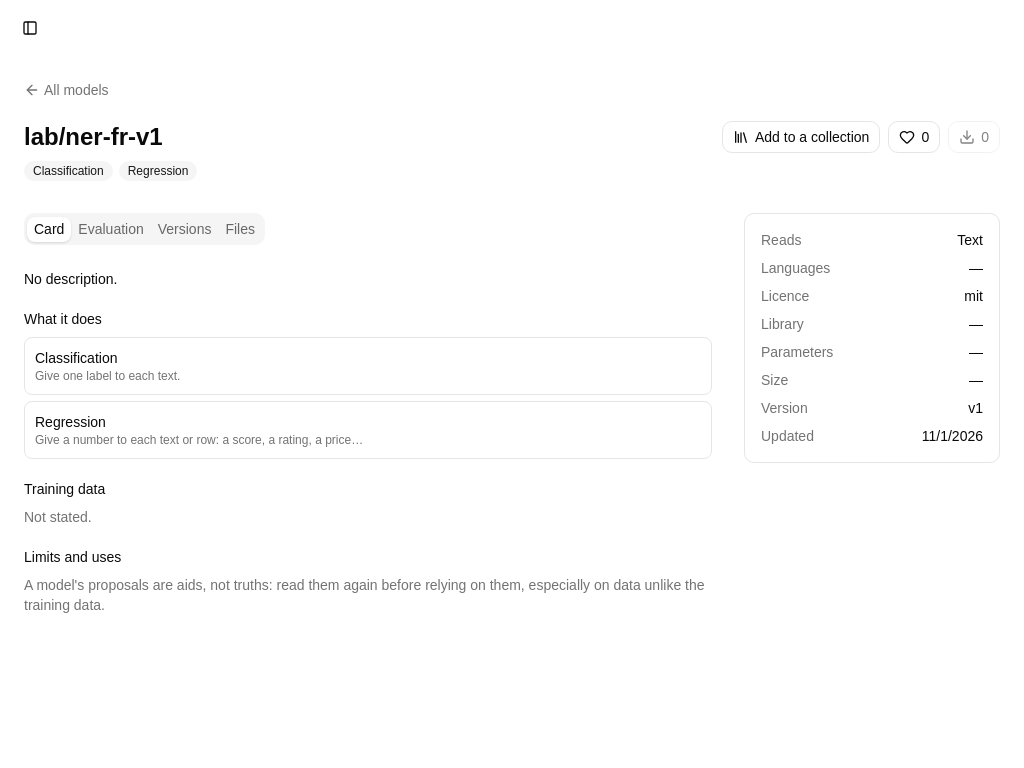
it: lists the evaluations by task, with the metrics the platform defines and only the ones that were chosen
The width and height of the screenshot is (1024, 768).
Click the tab "Evaluation" at (111, 229), box [71,216,151,242]
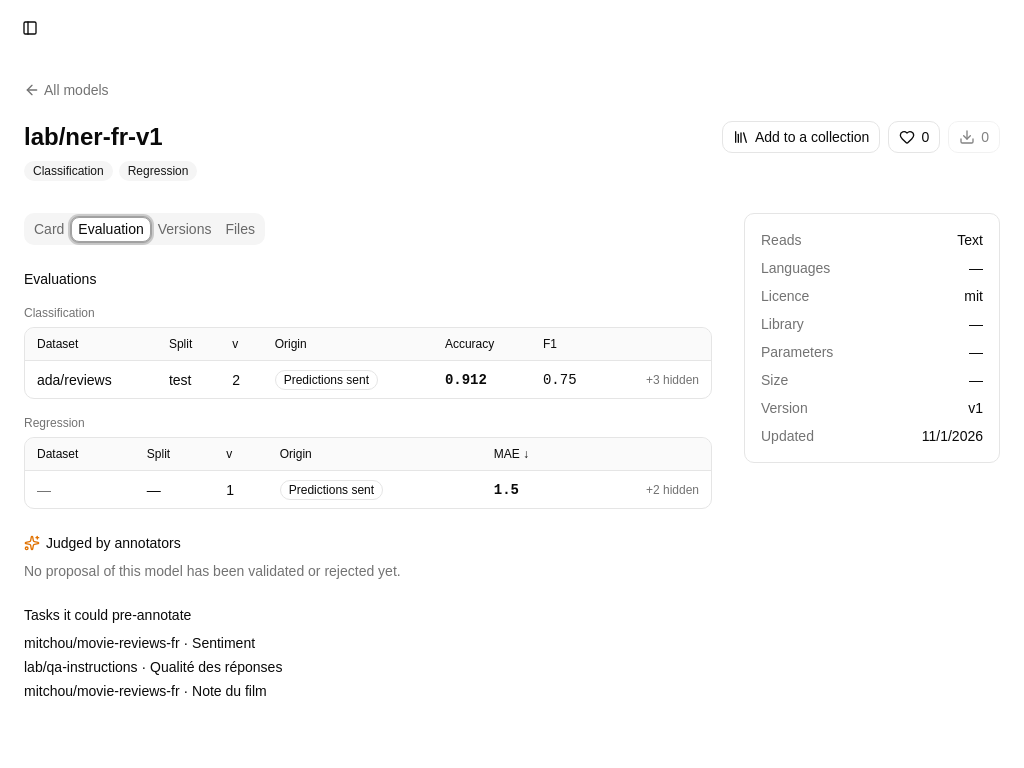
Expected: the column heading "Accuracy" is shown, [433,328,531,360]
Expected: the column heading "F1" is shown, [531,328,608,360]
Expected: the text "0.912" is shown, [433,360,531,398]
